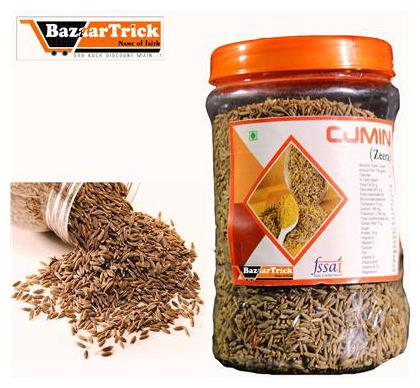fssai: (310, 255, 345, 274)
